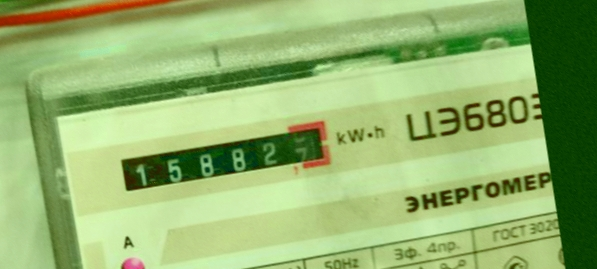1: (133, 157, 150, 187)
2: (259, 138, 279, 166)
5: (164, 153, 185, 186)
7: (292, 142, 308, 161)
8: (195, 149, 215, 179), (228, 143, 248, 173)
screen: (106, 109, 339, 204)
